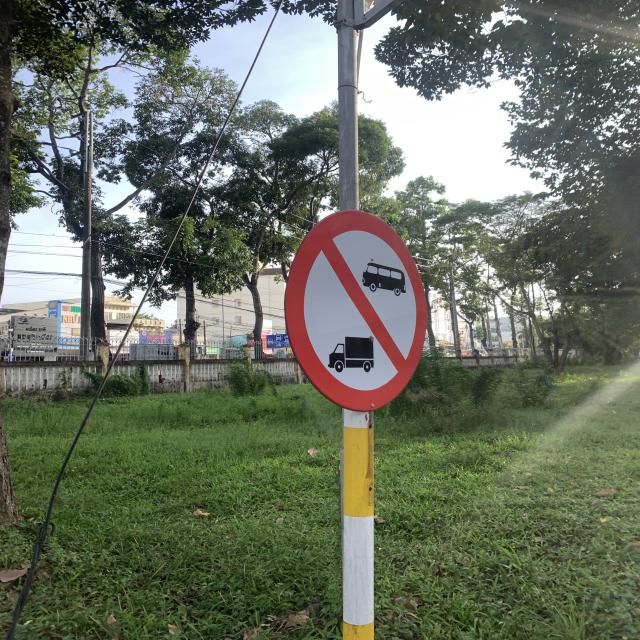Cam_XeTai_XeKhach: (288, 209, 428, 411)
